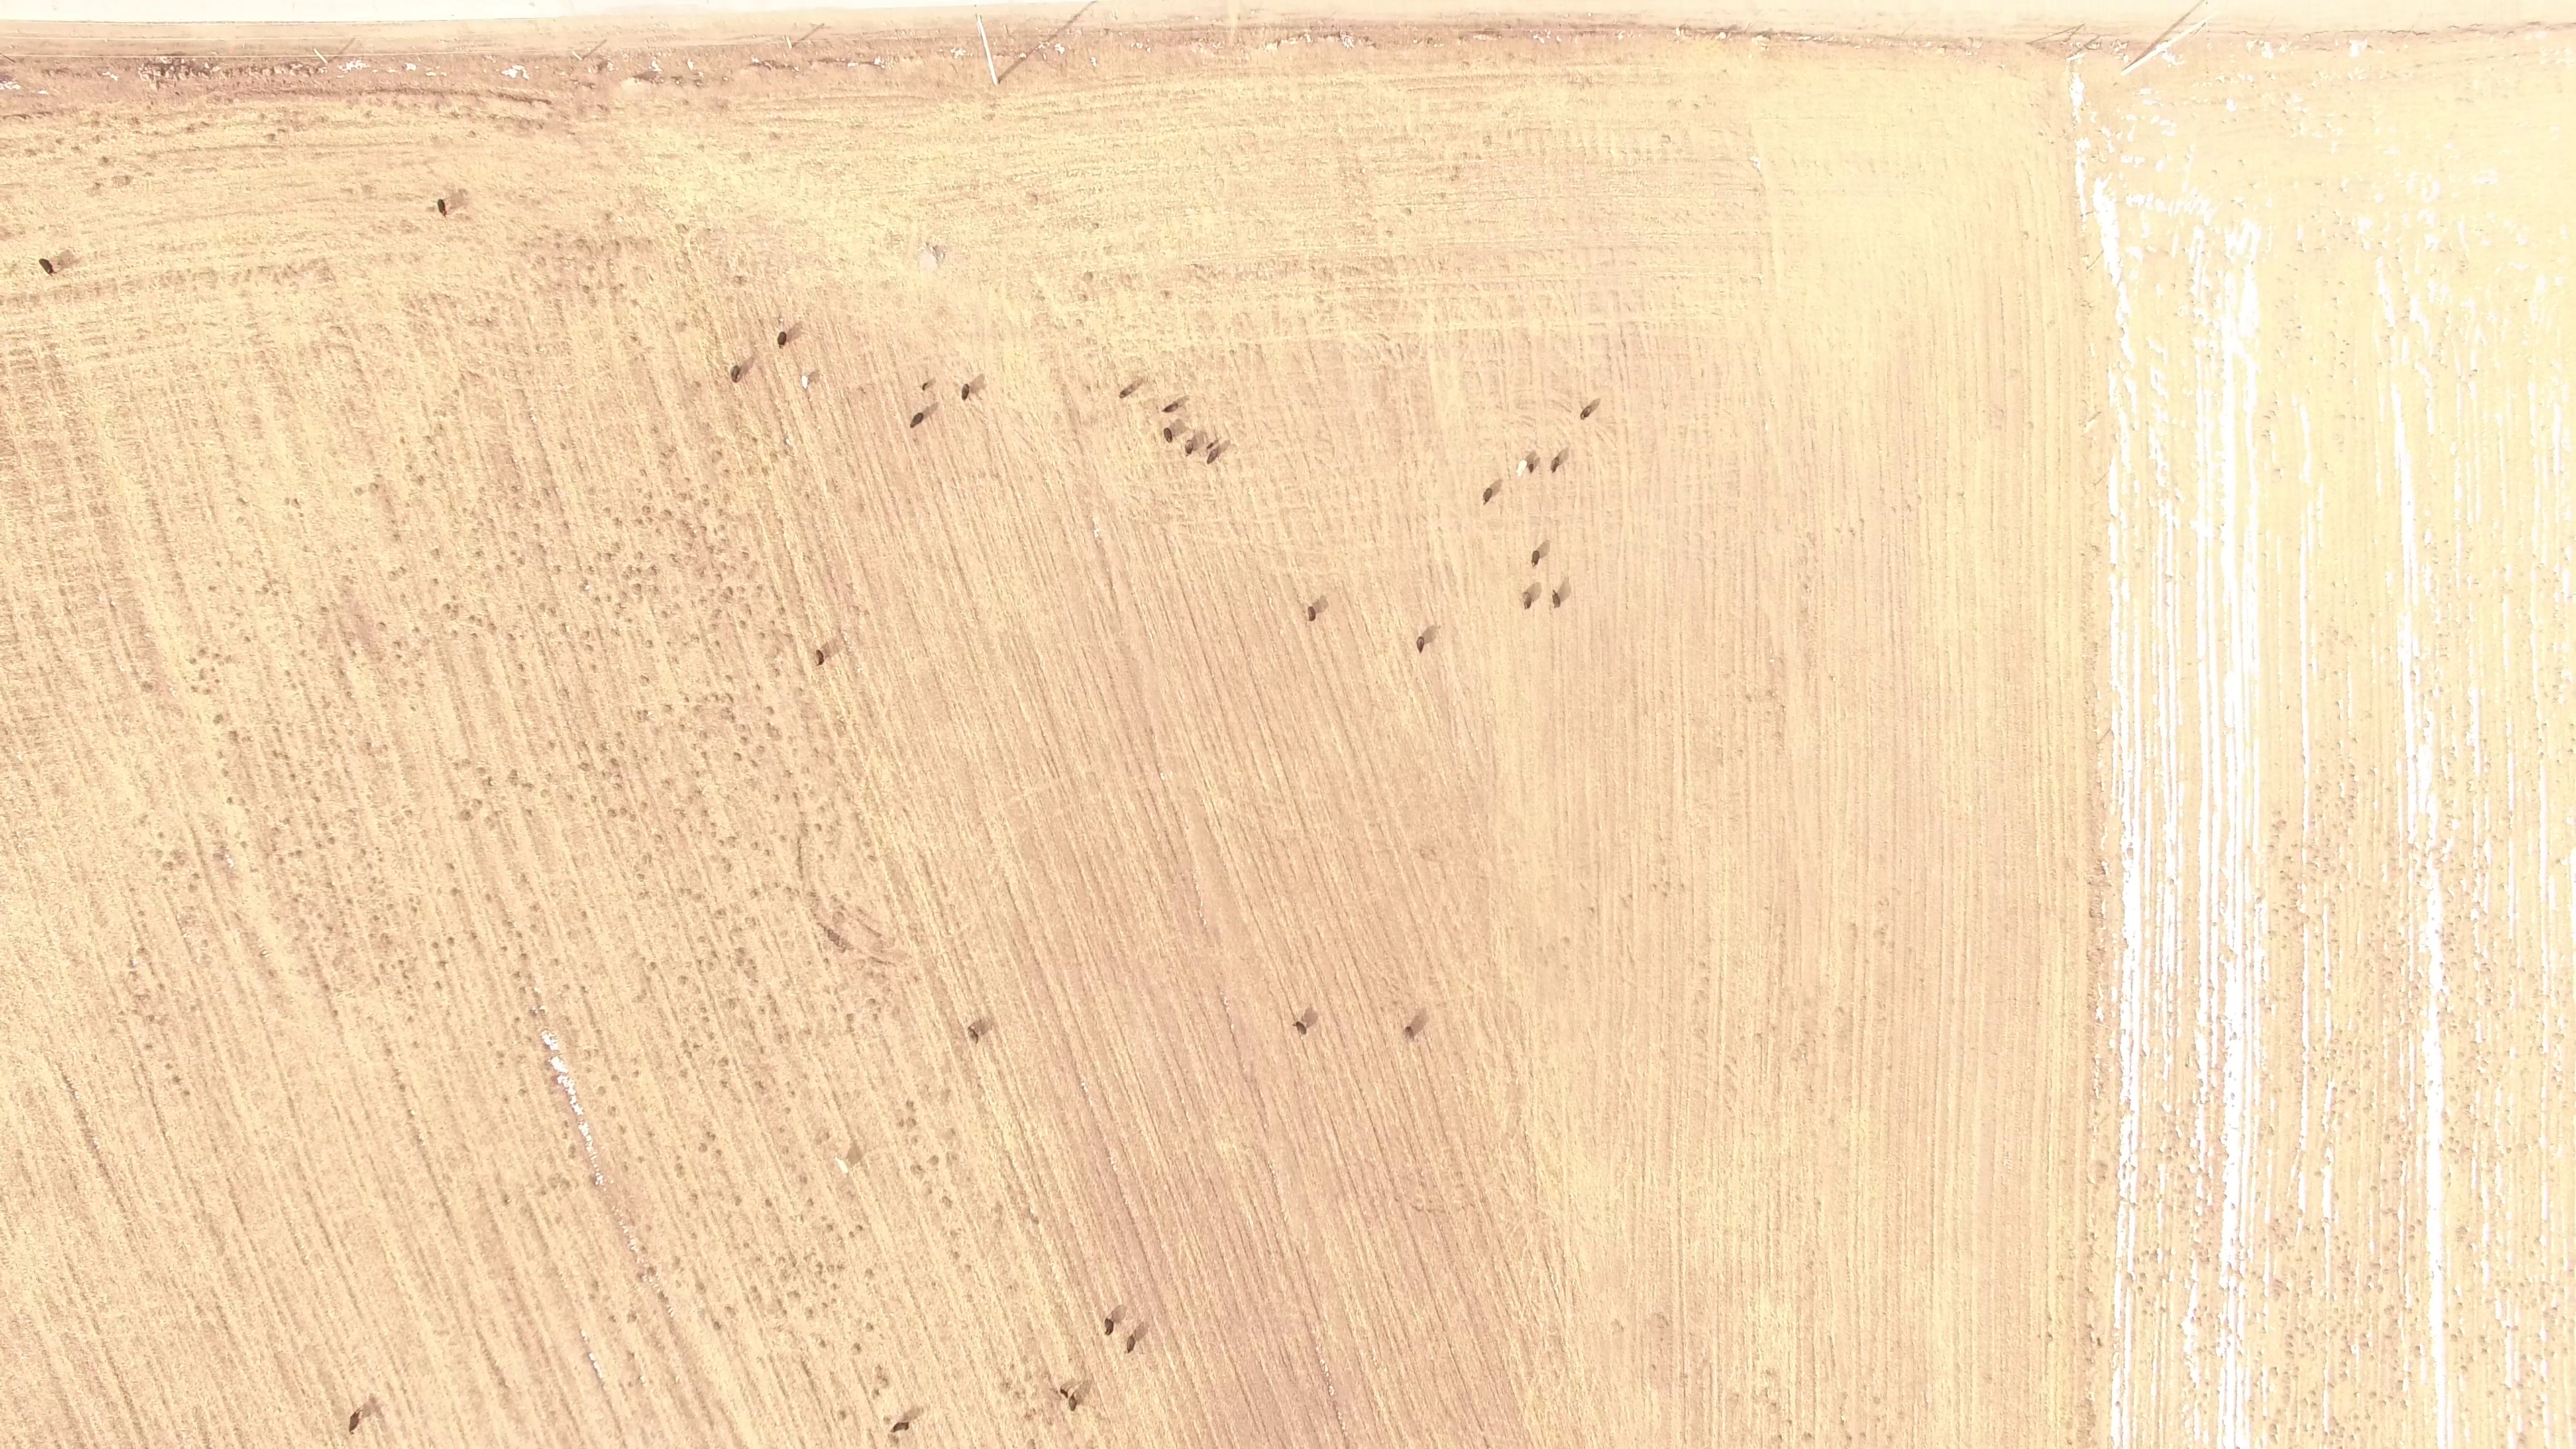sheep: (36, 256, 58, 278), (907, 409, 929, 431), (965, 1024, 985, 1045), (1203, 445, 1224, 467), (1578, 399, 1597, 423), (1116, 382, 1140, 402), (1547, 453, 1566, 475), (958, 380, 975, 403), (344, 1409, 362, 1434), (1549, 586, 1564, 611), (888, 1419, 913, 1435), (1292, 1018, 1311, 1038), (812, 647, 830, 668), (1528, 547, 1546, 568), (1480, 484, 1497, 506), (1161, 398, 1183, 416), (727, 364, 745, 386), (1124, 1333, 1140, 1355), (1102, 1314, 1118, 1338), (434, 196, 450, 219), (1067, 1391, 1083, 1413), (1513, 458, 1530, 478), (1413, 633, 1429, 655), (1305, 603, 1320, 625), (1519, 588, 1536, 611), (1182, 437, 1197, 458), (774, 329, 792, 350), (1401, 1024, 1418, 1042), (1161, 426, 1177, 445), (798, 374, 812, 391), (1057, 1385, 1071, 1400), (1525, 459, 1536, 476), (919, 379, 932, 392)
unknown: (994, 54, 1028, 86), (181, 58, 213, 79), (359, 1394, 384, 1421), (1471, 21, 1503, 41), (2139, 36, 2163, 60), (820, 924, 843, 949), (541, 1054, 570, 1075), (844, 1140, 865, 1166), (54, 253, 82, 272), (448, 186, 466, 213), (504, 92, 536, 107), (633, 68, 659, 85), (1748, 28, 1778, 42), (655, 1289, 672, 1306), (836, 1158, 851, 1176), (205, 54, 225, 71), (1595, 21, 1623, 32), (769, 58, 788, 72), (644, 1264, 659, 1279), (594, 58, 610, 74), (227, 728, 241, 745), (292, 62, 309, 76), (311, 60, 326, 78), (865, 56, 882, 68), (794, 853, 806, 875), (541, 1032, 554, 1053), (928, 1152, 941, 1168), (547, 1072, 561, 1088), (500, 916, 516, 930), (212, 711, 227, 727), (256, 60, 270, 76), (281, 58, 297, 72), (1456, 31, 1472, 44), (210, 851, 227, 863), (51, 65, 68, 77), (710, 1318, 724, 1333), (586, 1173, 600, 1187), (903, 1099, 917, 1112), (526, 1006, 539, 1021), (1, 69, 14, 83), (837, 1407, 849, 1422), (799, 1361, 812, 1377), (703, 1128, 718, 1141), (404, 1106, 416, 1121), (462, 808, 474, 824), (140, 680, 156, 692), (1676, 21, 1694, 34), (750, 58, 768, 70), (819, 54, 837, 66), (2027, 38, 2043, 50), (851, 1340, 864, 1355), (694, 1281, 708, 1293), (762, 1196, 775, 1210), (500, 1192, 511, 1206), (572, 1103, 584, 1116), (170, 1074, 183, 1086), (321, 981, 332, 995), (265, 967, 277, 979), (708, 947, 720, 960), (449, 885, 463, 898), (270, 747, 281, 760), (393, 85, 407, 97), (1046, 31, 1060, 43), (1186, 33, 1202, 45), (2086, 1411, 2098, 1423), (496, 1377, 508, 1389), (749, 1283, 761, 1295), (896, 1118, 907, 1130), (396, 1081, 408, 1093), (518, 950, 531, 963), (430, 939, 442, 951), (325, 835, 338, 847), (508, 767, 520, 779), (476, 764, 488, 776), (607, 755, 619, 767), (197, 645, 209, 658), (318, 604, 331, 615), (260, 584, 272, 596), (687, 529, 698, 541), (629, 333, 640, 345), (99, 154, 112, 166), (506, 66, 519, 80), (343, 60, 356, 73), (1027, 1436, 1038, 1449), (628, 1309, 639, 1324), (672, 1255, 683, 1268), (843, 1011, 855, 1024), (445, 934, 457, 949), (1083, 269, 1096, 280), (541, 97, 555, 108), (494, 90, 507, 101), (377, 85, 391, 95), (148, 80, 163, 92), (672, 72, 686, 84), (171, 48, 186, 59), (871, 1387, 882, 1397), (625, 1350, 637, 1360), (2412, 1343, 2423, 1353), (817, 1338, 828, 1350), (792, 1289, 803, 1301), (951, 1249, 962, 1261), (1030, 1216, 1042, 1227), (733, 1195, 744, 1208), (924, 1186, 935, 1197), (800, 1174, 810, 1187), (674, 1163, 685, 1174), (714, 1147, 724, 1157), (698, 1140, 709, 1151), (579, 1122, 590, 1134), (909, 1117, 920, 1128), (75, 1108, 87, 1119), (181, 1087, 193, 1098), (64, 1080, 74, 1091), (720, 1079, 730, 1091), (382, 1046, 394, 1057), (690, 1041, 701, 1052), (146, 1012, 158, 1025), (331, 1007, 341, 1019), (726, 996, 737, 1008), (531, 989, 541, 1001), (578, 983, 588, 994), (395, 957, 407, 967), (735, 945, 747, 958), (483, 892, 494, 904), (807, 889, 817, 900), (867, 853, 879, 864), (292, 847, 304, 859), (522, 780, 535, 791), (187, 656, 199, 667), (241, 633, 252, 644), (431, 576, 441, 587), (494, 563, 505, 574), (535, 541, 547, 552), (235, 494, 246, 505), (1161, 288, 1173, 299), (581, 282, 592, 293), (735, 273, 746, 284), (576, 235, 587, 246), (122, 172, 133, 184), (18, 111, 30, 121), (842, 56, 853, 66), (15, 55, 27, 66), (1361, 33, 1373, 44), (1295, 30, 1307, 40), (1333, 29, 1344, 40), (1844, 1433, 1855, 1443), (706, 1418, 717, 1429), (1012, 1389, 1022, 1399), (807, 1378, 817, 1389), (2085, 1322, 2095, 1332), (2391, 1316, 2401, 1326), (606, 1312, 617, 1324), (806, 1307, 816, 1318), (724, 1303, 735, 1315), (2135, 1283, 2145, 1293), (590, 1278, 601, 1288), (635, 1271, 645, 1282), (2137, 1270, 2149, 1281), (814, 1260, 824, 1270), (753, 1254, 763, 1265), (2088, 1230, 2098, 1240), (846, 1229, 857, 1240), (2458, 1223, 2468, 1233), (538, 1187, 549, 1198), (423, 1160, 433, 1171), (95, 1160, 107, 1171), (89, 1142, 100, 1152), (414, 1136, 424, 1146), (2382, 1132, 2393, 1143), (584, 1132, 594, 1144), (2463, 1083, 2473, 1093), (596, 1083, 606, 1093), (608, 1072, 619, 1083), (59, 1072, 70, 1083), (720, 1056, 731, 1067), (550, 1040, 561, 1051), (680, 1037, 690, 1048), (775, 1031, 785, 1042), (747, 1023, 757, 1033), (701, 1014, 711, 1024), (405, 1014, 415, 1024), (871, 1011, 881, 1022), (868, 996, 879, 1006), (643, 973, 653, 984), (400, 972, 411, 982), (511, 970, 523, 981), (647, 959, 657, 969), (437, 957, 448, 967), (307, 952, 319, 962), (2098, 947, 2108, 957), (383, 937, 394, 948), (469, 932, 480, 943), (515, 930, 525, 941), (326, 924, 336, 934), (370, 912, 381, 924), (137, 908, 147, 918), (408, 904, 420, 915), (386, 901, 396, 911), (641, 888, 651, 899), (186, 882, 197, 894), (325, 881, 336, 892), (191, 871, 202, 881), (724, 864, 734, 875), (276, 855, 286, 865), (172, 851, 182, 862), (195, 847, 205, 858), (794, 843, 804, 853), (475, 798, 485, 808), (312, 794, 322, 804), (772, 793, 782, 803), (695, 788, 705, 798), (288, 771, 299, 782), (364, 739, 374, 750), (767, 706, 777, 716), (203, 686, 214, 696), (197, 673, 207, 683), (335, 667, 346, 678), (589, 662, 599, 672), (488, 623, 499, 633), (559, 620, 569, 630), (738, 618, 748, 628), (467, 612, 478, 623), (443, 601, 453, 612), (726, 586, 736, 596), (578, 583, 588, 593), (633, 581, 644, 591), (391, 530, 402, 541), (681, 520, 691, 530), (635, 517, 646, 527), (154, 515, 164, 525), (663, 508, 674, 518), (715, 506, 726, 516), (382, 495, 392, 505), (372, 481, 382, 492), (417, 473, 427, 483), (750, 435, 760, 445), (451, 386, 462, 396), (693, 380, 704, 390), (484, 317, 494, 327), (321, 263, 331, 274), (612, 239, 623, 249), (603, 210, 613, 221), (28, 148, 38, 158), (71, 144, 82, 154), (54, 136, 64, 147), (268, 131, 278, 142), (38, 108, 48, 118), (430, 87, 441, 97), (409, 87, 420, 98), (12, 82, 23, 92), (584, 80, 594, 91), (625, 76, 636, 87), (146, 71, 157, 82), (42, 66, 53, 76), (235, 64, 246, 75), (121, 63, 133, 74), (785, 61, 797, 72), (326, 56, 336, 66), (123, 55, 134, 65), (788, 40, 800, 50), (922, 36, 932, 46), (1424, 34, 1436, 44), (1784, 29, 1795, 40), (1777, 28, 1788, 39), (1667, 23, 1678, 34), (1504, 21, 1514, 32), (1071, 13, 1081, 23), (2269, 1421, 2279, 1433), (2094, 1338, 2104, 1350), (569, 1093, 579, 1106), (344, 896, 354, 907), (58, 588, 68, 599), (686, 59, 696, 70), (76, 1440, 87, 1449), (875, 1373, 885, 1383), (867, 1323, 877, 1333), (773, 1296, 784, 1306), (815, 1267, 825, 1277), (2202, 1255, 2212, 1265), (856, 1224, 866, 1234), (207, 1222, 217, 1232), (824, 1221, 834, 1231), (233, 1205, 243, 1215), (439, 1199, 449, 1209), (689, 1190, 699, 1200), (1004, 1182, 1014, 1192), (562, 1178, 572, 1188), (913, 1162, 924, 1172), (2098, 1161, 2108, 1171), (85, 1136, 95, 1146), (949, 1128, 959, 1138), (79, 1117, 89, 1127), (943, 1086, 953, 1097), (566, 1085, 576, 1095), (143, 1042, 153, 1052), (410, 1038, 420, 1049), (803, 1027, 813, 1037), (513, 1014, 523, 1024), (2204, 1013, 2214, 1023), (735, 957, 745, 967), (530, 902, 540, 914), (290, 895, 301, 905), (751, 888, 761, 898), (2096, 863, 2107, 873), (166, 859, 176, 870), (358, 847, 368, 857), (225, 796, 235, 806), (790, 790, 800, 800), (221, 767, 231, 779), (582, 761, 592, 771), (728, 712, 738, 722), (375, 654, 385, 664), (343, 637, 353, 648), (412, 625, 422, 635), (537, 600, 547, 610), (272, 589, 282, 599), (604, 550, 614, 560), (282, 495, 292, 506), (511, 486, 521, 496), (930, 244, 941, 254), (553, 240, 563, 250), (3, 229, 13, 239), (426, 205, 437, 215), (93, 180, 103, 190), (91, 118, 102, 128), (222, 68, 232, 78), (1370, 40, 1380, 50), (1567, 21, 1577, 32), (2533, 18, 2543, 28), (1, 56, 7, 69), (1024, 1411, 1034, 1421), (866, 1268, 876, 1278), (496, 1051, 506, 1061), (130, 1006, 140, 1016), (746, 957, 756, 967), (529, 921, 539, 931), (813, 820, 823, 830), (525, 806, 535, 816), (1318, 592, 1328, 602), (474, 548, 484, 558), (541, 486, 551, 496), (516, 121, 526, 131), (1940, 42, 1950, 52), (1, 297, 5, 309)
